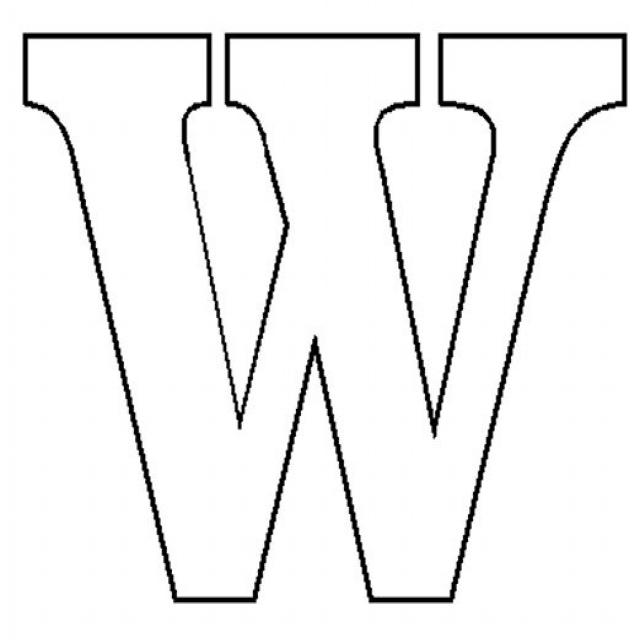W: (5, 6, 634, 614)
